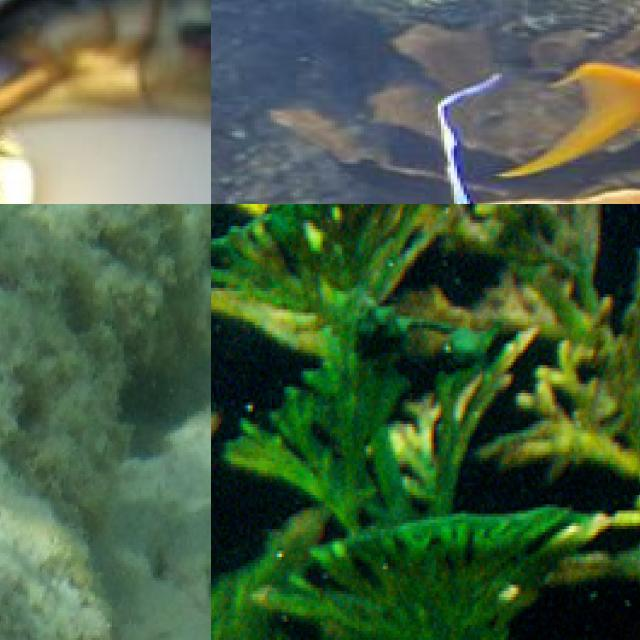fish: (0, 0, 211, 204)
